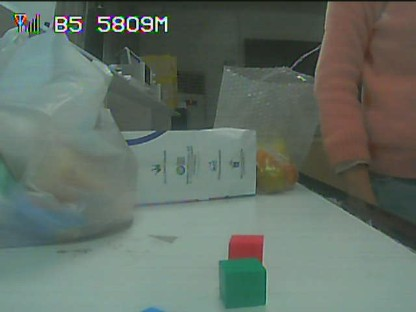g: (217, 259, 265, 305)
r: (230, 234, 263, 261)
